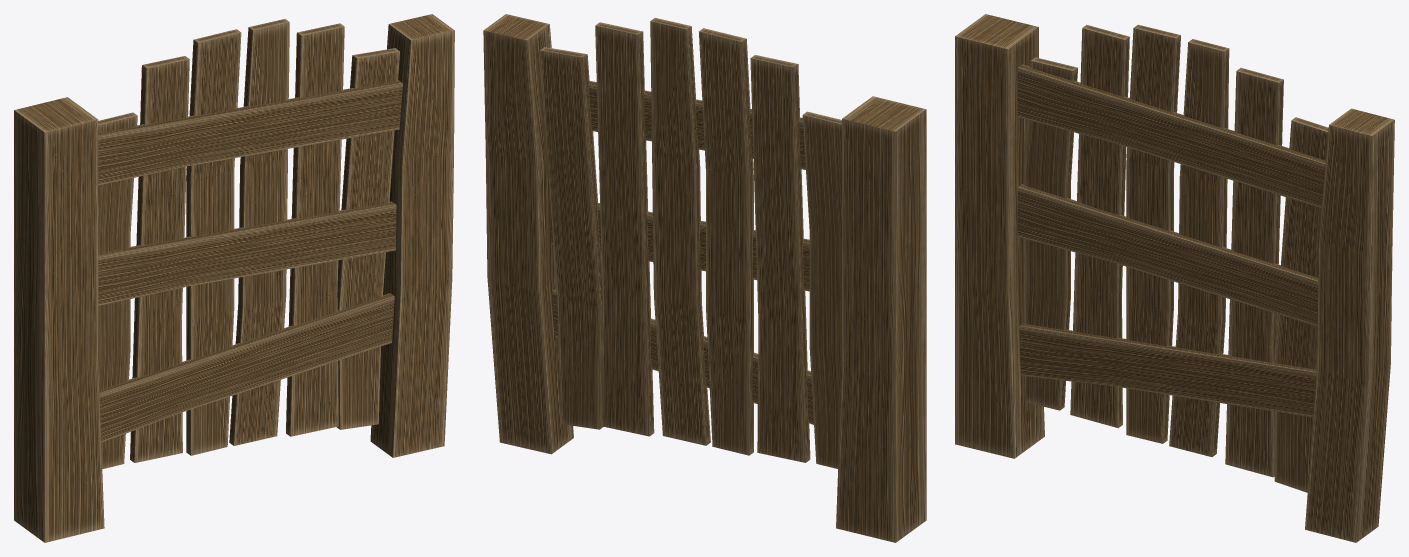
Rendered from fence_door.fbx.
3 renders of one model, left to right at view 1: azimuth 30°, elevation 25°; view 2: azimuth 150°, elevation 25°; view 3: azimuth 330°, elevation 25°, orthographic.
Visible parts, largest first — view 1: Default_Layer; view 2: Default_Layer; view 3: Default_Layer.
Part boxes in pixels (<box>): Default_Layer: <box>14,14,454,542</box>; Default_Layer: <box>483,14,926,542</box>; Default_Layer: <box>955,14,1394,542</box>.
Bounding box in the file's own units: 186 × 194 × 23.86.
